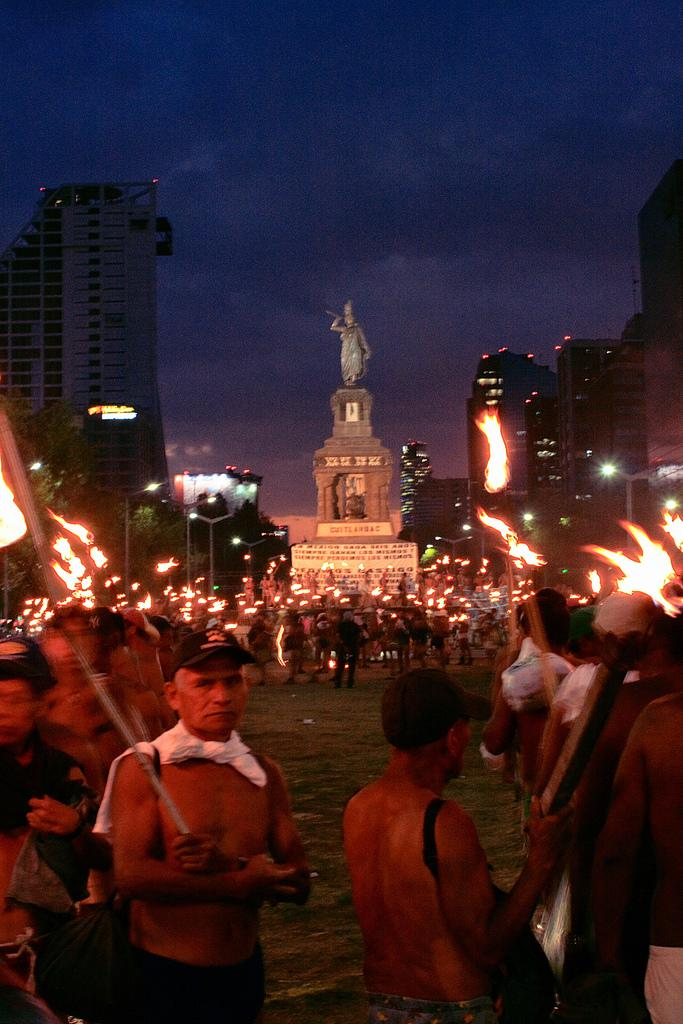fire: (48, 515, 118, 612), (595, 528, 678, 595), (480, 398, 505, 502), (5, 478, 22, 542)
